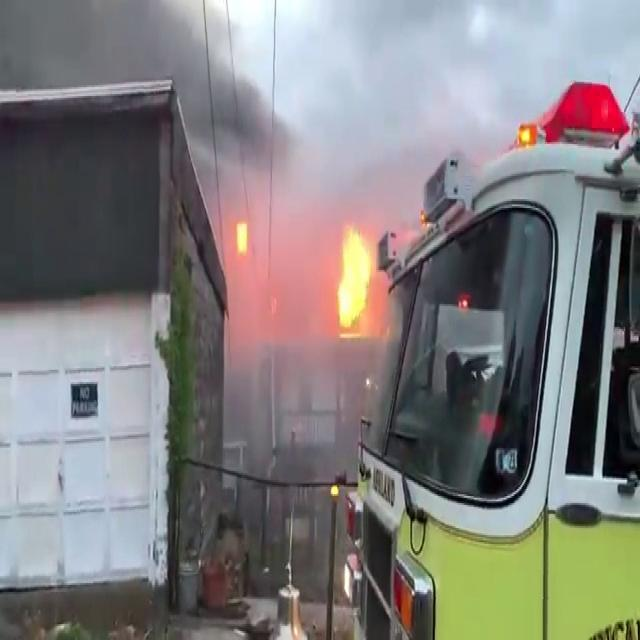Fire: (329, 218, 383, 337)
Smoke: (170, 1, 459, 427)
